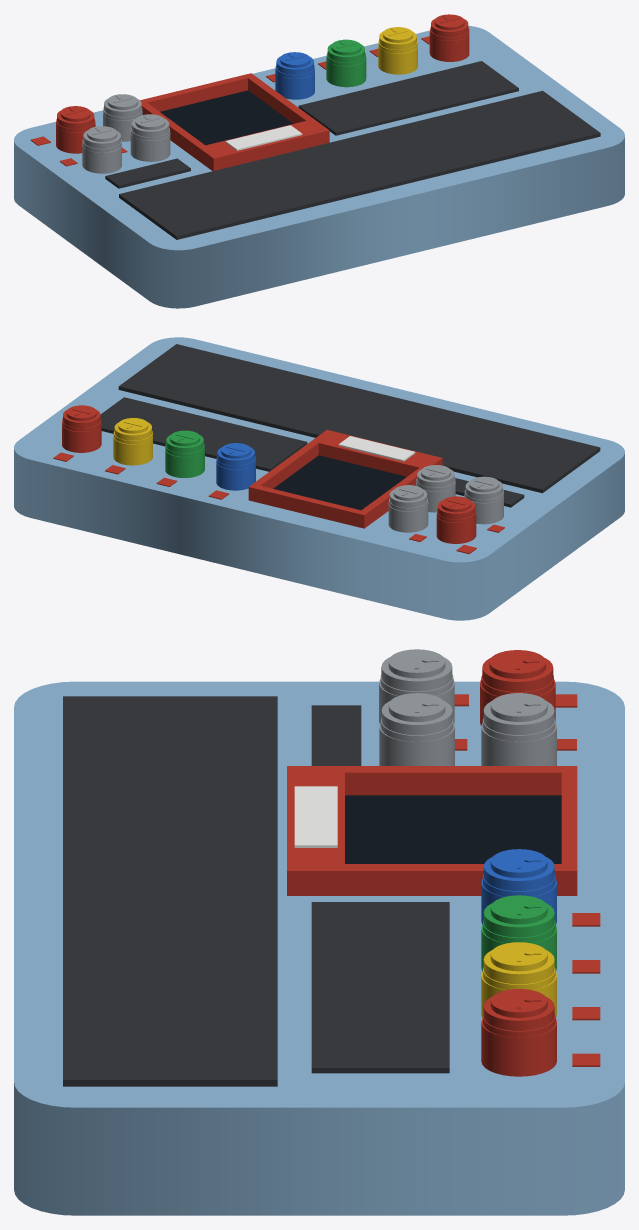
The model's file is FM1_Kz_preview_ALLVARIANTS_v0.6.glb.
3 views of the same model, one above another, from view 1: azimuth 30°, elevation 25°; view 2: azimuth 150°, elevation 25°; view 3: azimuth 270°, elevation 25° (orthographic). The views are drawn at different scales.
Visible parts, largest first — view 1: faceplate_side, fm1_keys, faceplate_body, bezel_ext, fm1_screen, bezel_simple, knob_nav3_groove_short_body, bezel_logo_sloop, knob_p2_groove_short_body, knob_p4_groove_short_body, knob_nav2_groove_short_body, knob_p3_groove_short_body (+4 smaller); view 2: faceplate_side, fm1_keys, faceplate_body, bezel_ext, fm1_screen, bezel_simple, knob_vol_groove_short_body, knob_nav1_groove_short_body, bezel_logo_sloop, knob_p4_groove_short_body, knob_p3_groove_short_body, knob_p2_groove_short_body (+4 smaller); view 3: fm1_keys, faceplate_body, faceplate_side, bezel_ext, fm1_screen, bezel_simple, knob_p4_groove_short_body, bezel_logo_sloop, faceplate_accent, knob_nav1_groove_short_body, knob_nav3_groove_short_body, knob_p2_groove_long_cap (+15 smaller).
Boxes of the visible parts, x1,y1,x2,y2 form: faceplate_side: (14, 25, 624, 308); fm1_keys: (105, 61, 600, 239); faceplate_body: (16, 26, 622, 249); bezel_ext: (140, 73, 329, 170); fm1_screen: (160, 90, 293, 145); bezel_simple: (142, 83, 298, 160); knob_nav3_groove_short_body: (130, 131, 170, 161); bezel_logo_sloop: (225, 125, 302, 150); knob_p2_groove_short_body: (326, 57, 366, 87); knob_p4_groove_short_body: (429, 32, 469, 61); knob_nav2_groove_short_body: (82, 143, 121, 173); knob_p3_groove_short_body: (378, 44, 417, 74); faceplate_side: (14, 337, 624, 620); fm1_keys: (100, 344, 600, 507); faceplate_body: (16, 338, 622, 561); bezel_ext: (248, 430, 442, 528); fm1_screen: (273, 455, 406, 510); bezel_simple: (248, 447, 415, 528); knob_vol_groove_short_body: (436, 513, 476, 543); knob_nav1_groove_short_body: (388, 502, 428, 532); bezel_logo_sloop: (338, 436, 415, 461); knob_p4_groove_short_body: (62, 422, 101, 452); knob_p3_groove_short_body: (113, 435, 152, 465); knob_p2_groove_short_body: (165, 448, 204, 477); fm1_keys: (63, 696, 449, 1086); faceplate_body: (17, 683, 621, 1105); faceplate_side: (14, 681, 624, 1215); bezel_ext: (287, 766, 577, 895); fm1_screen: (345, 795, 561, 863); bezel_simple: (329, 781, 577, 895); knob_p4_groove_short_body: (481, 1018, 556, 1076); bezel_logo_sloop: (294, 786, 337, 847); faceplate_accent: (454, 694, 600, 1066); knob_nav1_groove_short_body: (481, 722, 556, 765); knob_nav3_groove_short_body: (379, 723, 454, 765); knob_p2_groove_long_cap: (490, 895, 547, 924).
Size of the model in its own units: 0.165 by 0.0307 by 0.1.
